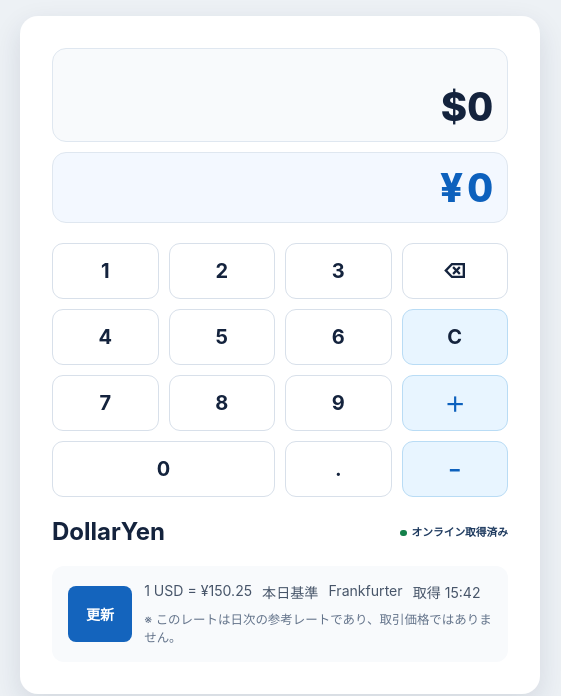
Test: edits an operand, cancels a pending plus, and clears the whole calculation
The image size is (561, 696).
Type keys "10+25{Backspace}"
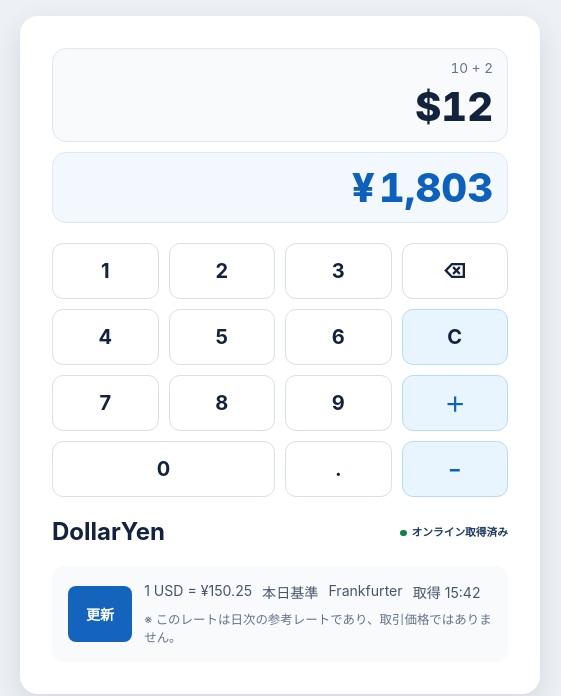
Expected: the text named "米ドル金額" reads "$12", [415,82,493,131]
Type keys "+{Backspace}3"
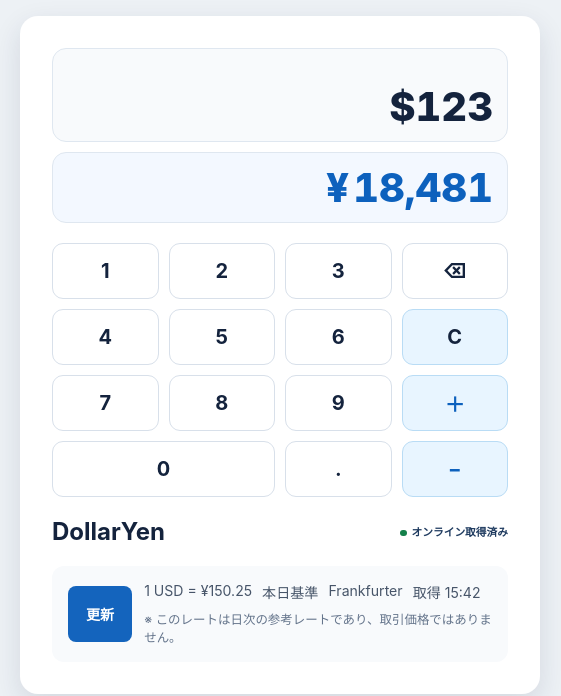
Expected: the text named "米ドル金額" reads "$123", [389,82,493,131]
Click the button named "クリア" at {"x": 455, "y": 337}, box [402,309,508,365]
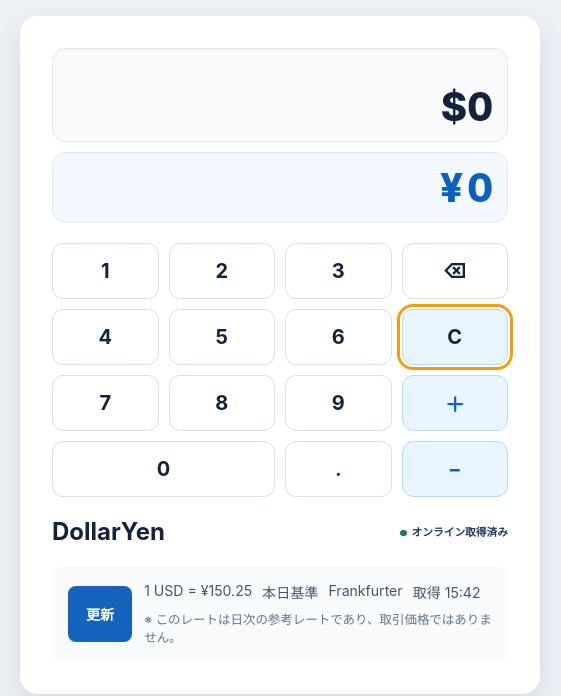
Expected: the text named "米ドル金額" reads "$0", [441,82,493,131]
Type keys "5"
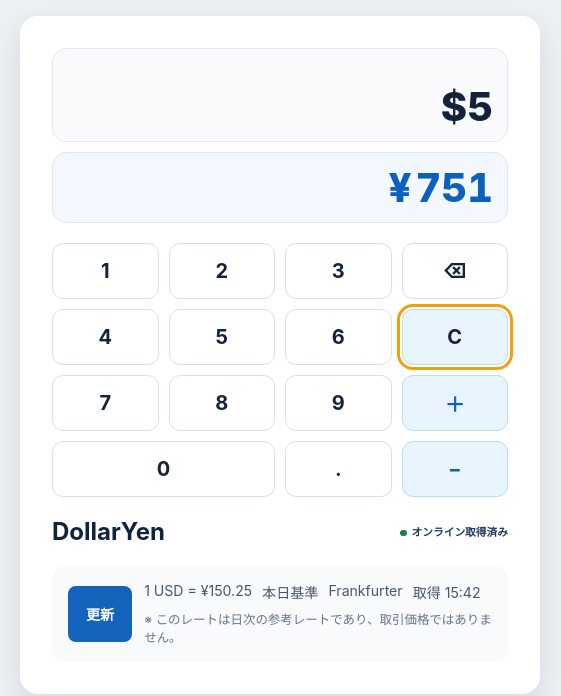
Expected: the text named "米ドル金額" reads "$5", [441,82,493,131]
